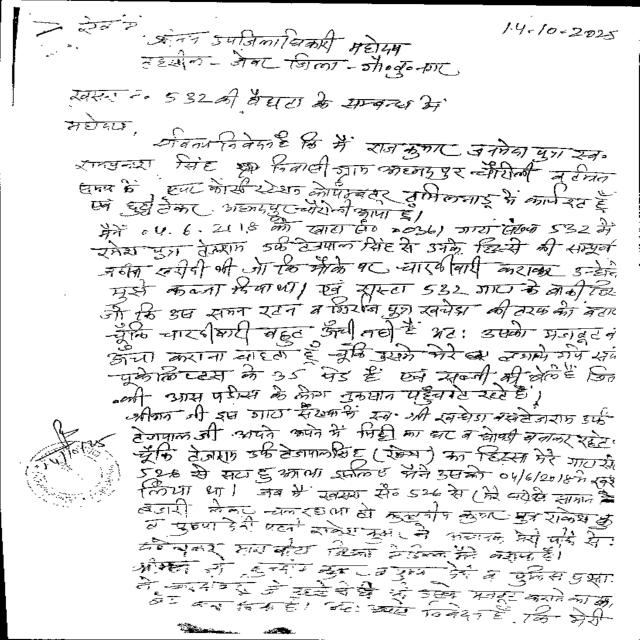logowithsign: (13, 419, 129, 510)
